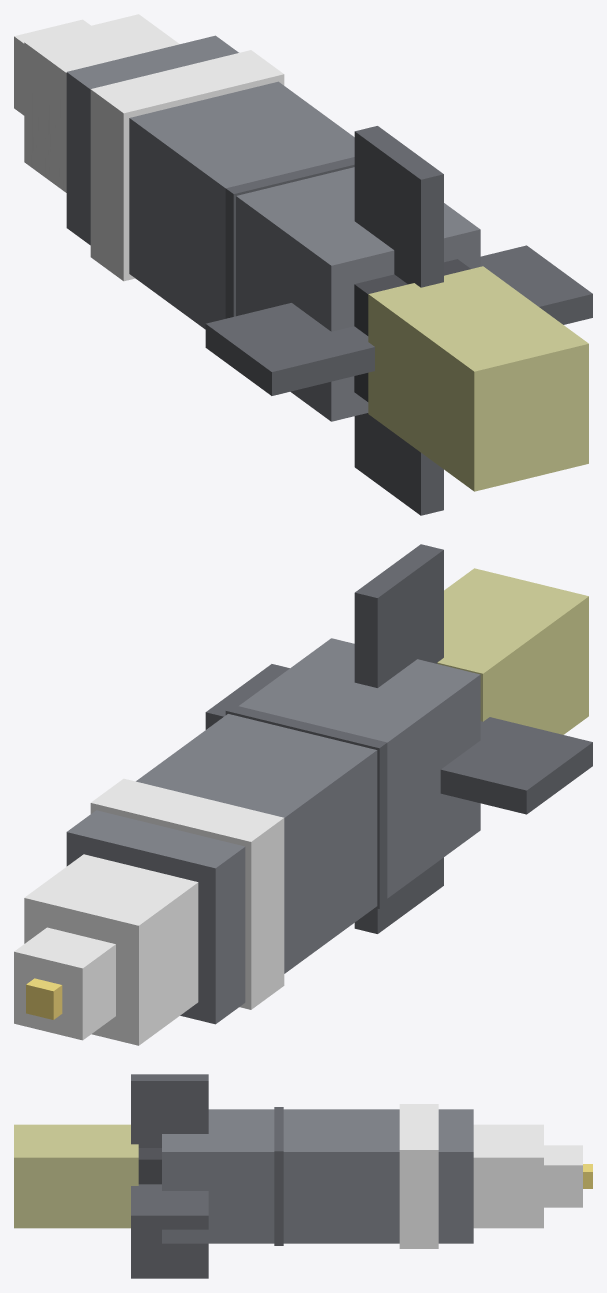
File: ROCKET.gltf
3 views of the same model, one above another, from view 1: azimuth 30°, elevation 25°; view 2: azimuth 150°, elevation 25°; view 3: azimuth 270°, elevation 25° (orthographic). The views are drawn at different scales.
Visible parts, largest first — view 1: ROCKET; view 2: ROCKET; view 3: ROCKET.
Boxes of the visible parts, x1,y1,x2,y2 form: ROCKET: (14,14,592,515); ROCKET: (14,544,592,1045); ROCKET: (14,1074,592,1278).
Size of the model in its own units: 0.28 by 0.28 by 0.743.
